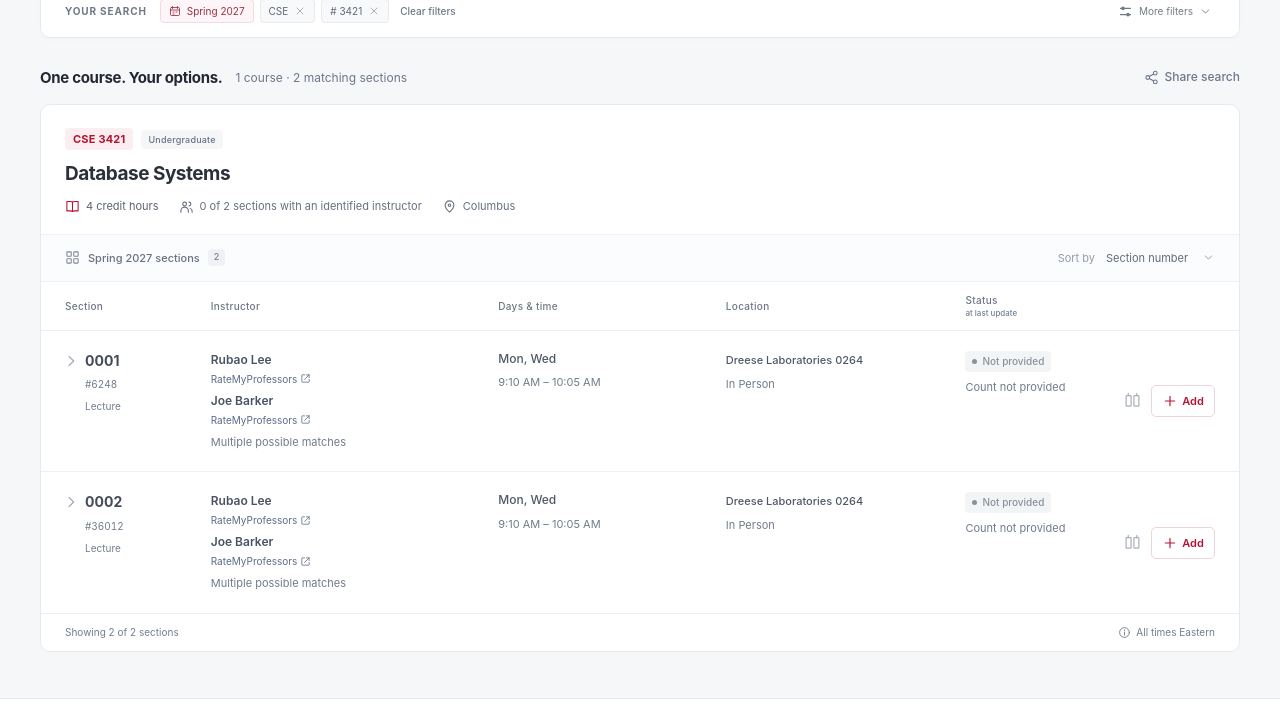
Scenario: course planning user flows › shows all full-name candidates for ambiguous evidence without selecting a single winner
(page scrolled)
Expected: the heading "Database Systems" is shown, [65,162,230,185]
Expected: the number of buttons "Rubao Lee" is 2, [211,350,272,368]; [211,492,272,510]
Click the button named "Show details for section 0001" at (70, 360), box [63,350,78,370]
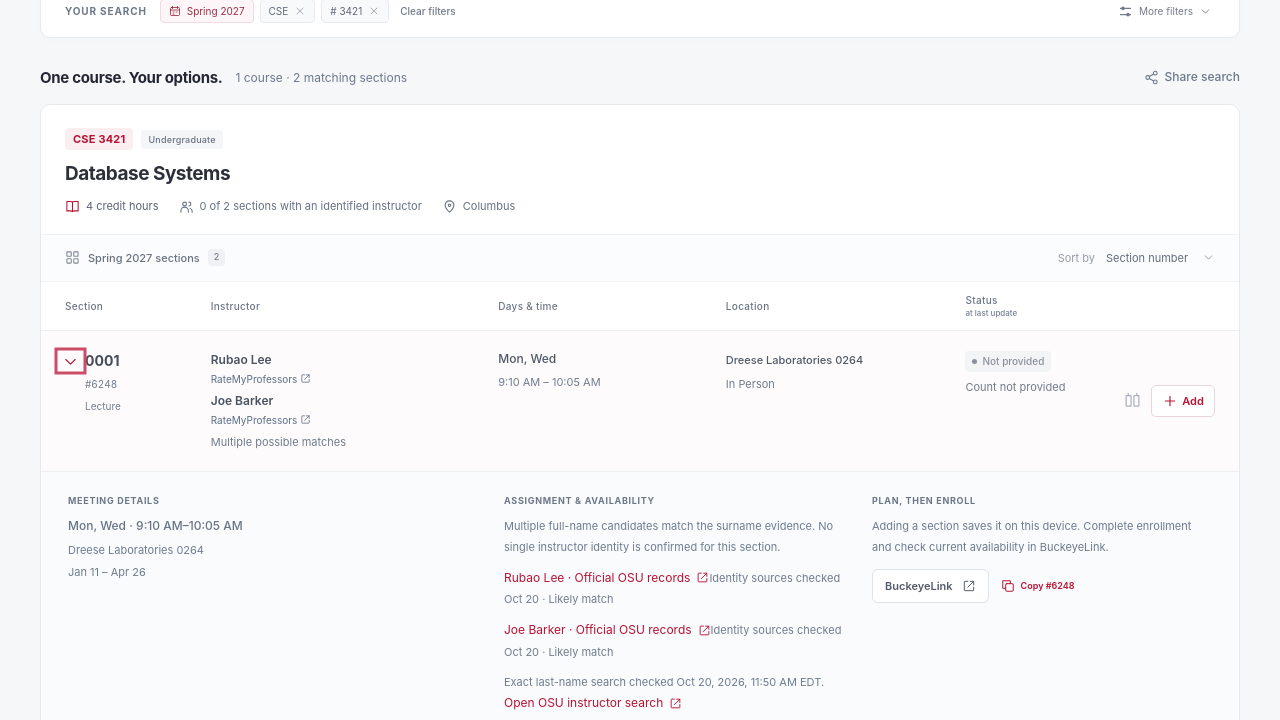
Expected: the text "No single instructor identity is confirmed" is shown, [504,519,833,554]
